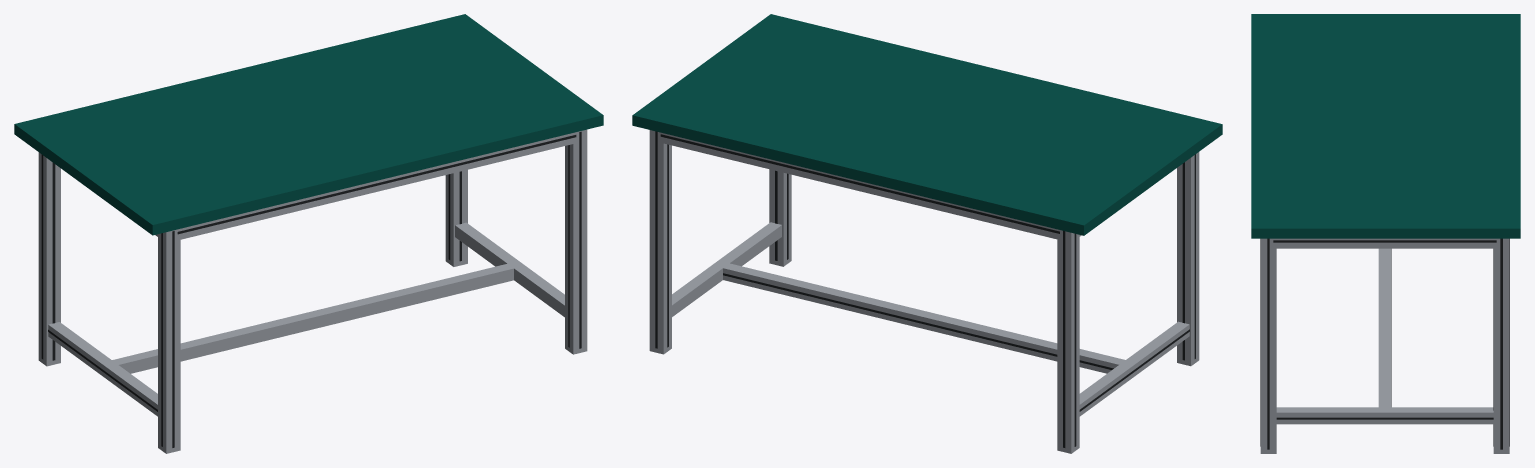
3 views of the same model, side by side, from view 1: azimuth 30°, elevation 25°; view 2: azimuth 150°, elevation 25°; view 3: azimuth 270°, elevation 25° (orthographic). The views are drawn at different scales.
Visible parts, largest first — view 1: green_desk_top_visual, green_desk_beam_cross_visual, green_desk_leg_right_front_visual, green_desk_leg_left_front_visual, green_desk_upper_front_visual, green_desk_leg_left_back_visual, green_desk_beam_right_visual, green_desk_beam_left_visual, green_desk_leg_right_back_visual, green_desk_upper_front_slot_z, green_desk_leg_lb_slot_z1, green_desk_leg_rf_slot_z1 (+2 smaller); view 2: green_desk_top_visual, green_desk_beam_cross_visual, green_desk_leg_right_back_visual, green_desk_leg_left_back_visual, green_desk_leg_left_front_visual, green_desk_upper_back_visual, green_desk_beam_right_visual, green_desk_beam_left_visual, green_desk_leg_right_front_visual, green_desk_upper_back_slot_z, green_desk_beam_cross_slot_z, green_desk_leg_rb_slot_z0 (+2 smaller); view 3: green_desk_top_visual, green_desk_beam_right_visual, green_desk_leg_right_front_visual, green_desk_leg_right_back_visual, green_desk_upper_right_visual, green_desk_beam_cross_visual, green_desk_upper_right_slot_x, green_desk_beam_right_slot_x, green_desk_leg_rb_slot_x1, green_desk_leg_rf_slot_x1.
Boxes of the visible parts, x1,y1,x2,y2 form: green_desk_top_visual: [14, 14, 603, 235]; green_desk_beam_cross_visual: [106, 262, 517, 373]; green_desk_leg_right_front_visual: [565, 129, 587, 354]; green_desk_leg_left_front_visual: [158, 228, 180, 453]; green_desk_upper_front_visual: [174, 133, 578, 240]; green_desk_leg_left_back_visual: [38, 152, 60, 366]; green_desk_beam_right_visual: [455, 222, 564, 317]; green_desk_beam_left_visual: [48, 322, 157, 416]; green_desk_leg_right_back_visual: [445, 169, 467, 266]; green_desk_upper_front_slot_z: [177, 135, 576, 234]; green_desk_leg_lb_slot_z1: [52, 162, 55, 360]; green_desk_leg_rf_slot_z1: [579, 131, 581, 348]; green_desk_top_visual: [632, 14, 1222, 235]; green_desk_beam_cross_visual: [723, 263, 1125, 373]; green_desk_leg_right_back_visual: [649, 130, 671, 354]; green_desk_leg_left_back_visual: [1057, 229, 1079, 453]; green_desk_leg_left_front_visual: [1177, 152, 1199, 366]; green_desk_upper_back_visual: [663, 133, 1062, 239]; green_desk_beam_right_visual: [672, 222, 781, 316]; green_desk_beam_left_visual: [1079, 321, 1189, 416]; green_desk_leg_right_front_visual: [769, 169, 791, 266]; green_desk_upper_back_slot_z: [660, 134, 1059, 233]; green_desk_beam_cross_slot_z: [723, 273, 1113, 369]; green_desk_leg_rb_slot_z0: [655, 131, 657, 348]; green_desk_top_visual: [1251, 14, 1520, 238]; green_desk_beam_right_visual: [1276, 407, 1493, 424]; green_desk_leg_right_front_visual: [1260, 238, 1276, 453]; green_desk_leg_right_back_visual: [1493, 238, 1509, 453]; green_desk_upper_right_visual: [1269, 238, 1500, 248]; green_desk_beam_cross_visual: [1378, 248, 1391, 409]; green_desk_upper_right_slot_x: [1273, 240, 1496, 242]; green_desk_beam_right_slot_x: [1276, 417, 1493, 419]; green_desk_leg_rb_slot_x1: [1500, 238, 1502, 449]; green_desk_leg_rf_slot_x1: [1267, 238, 1269, 449].
Bounding box in the file's own units: 1.59 × 0.798 × 0.844.
